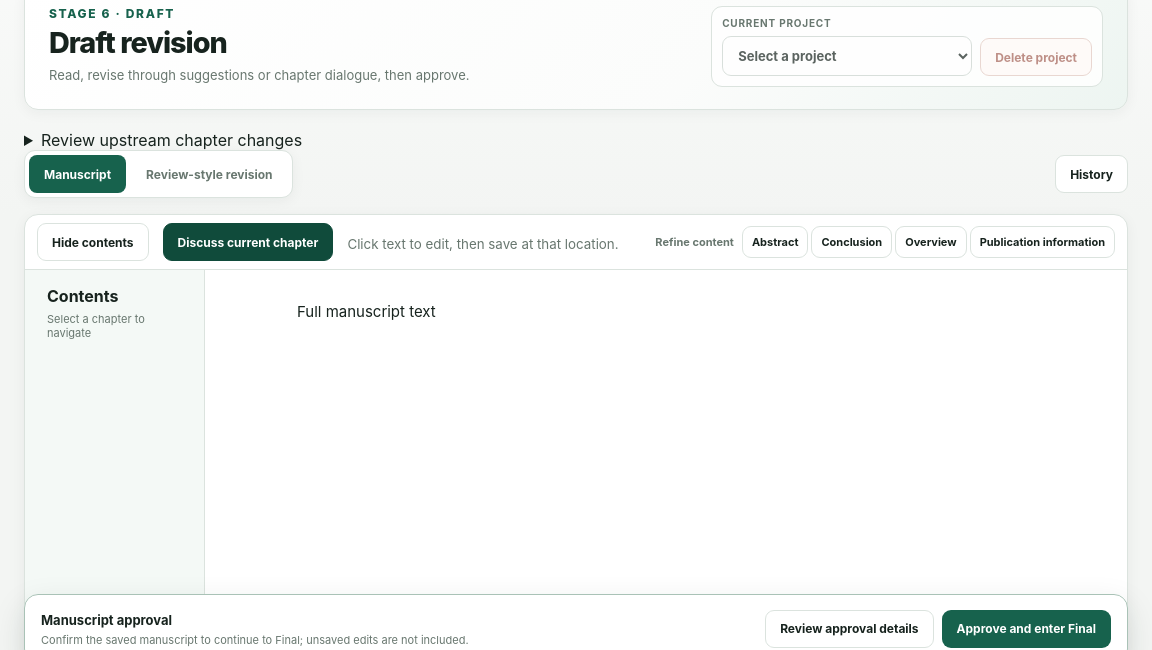
Test: starts with the manuscript and opens optional tools without a numbered wizard
Expected: the text "Full manuscript text" is shown, [297,302,436,321]
Expected: the element named "Complete manuscript" is shown, [655,226,1115,258]
Click the button "Review-style revision" at (209, 174), box [131,155,288,193]
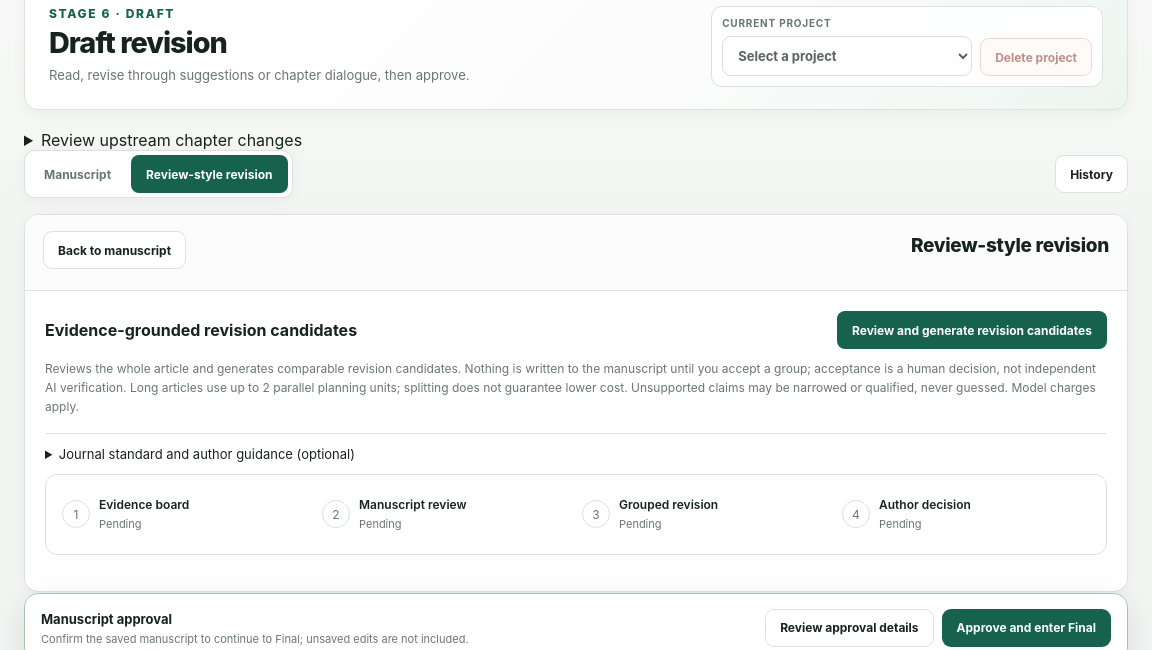
Now the button "Review and generate revision candidates" is enabled, box [837,311,1107,349]
Click the button "Manuscript" at (78, 174), box [29,155,126,193]
(page scrolled)
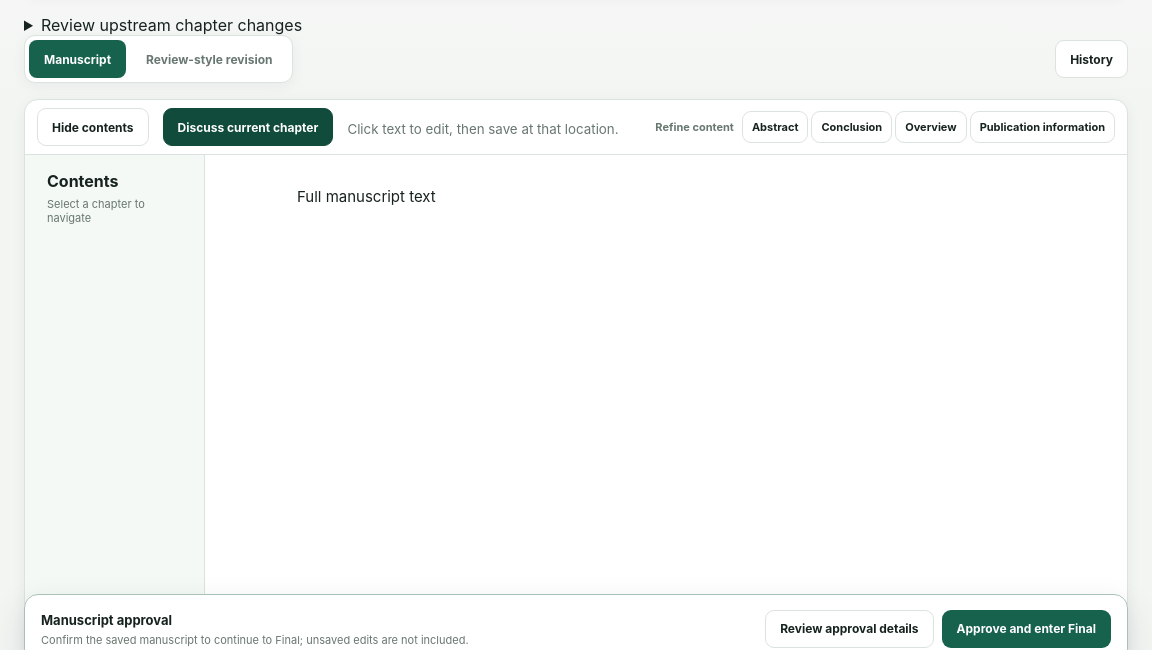
Click the button "Discuss current chapter" at (248, 127), box [163,108,333,146]
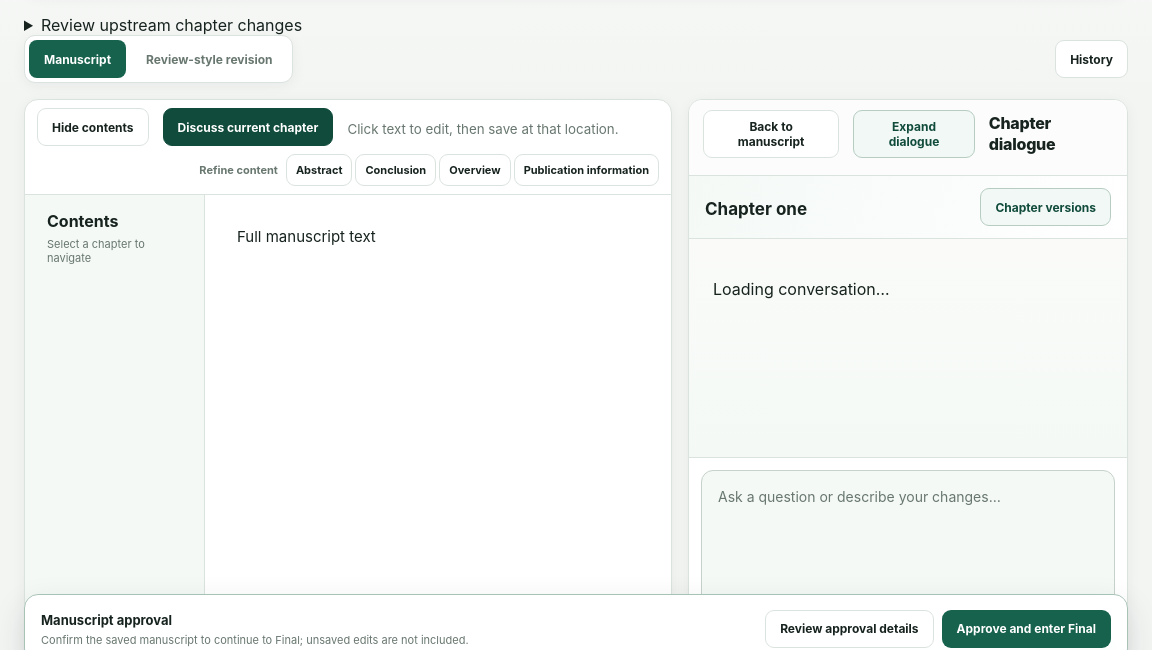
Now the text "Full manuscript text" is shown, box [237,227,376,246]
Now the button "Chapter versions" is shown, box [980,188,1111,226]
Click the button "Back to manuscript" at (771, 134), box [703,110,839,158]
(page scrolled)
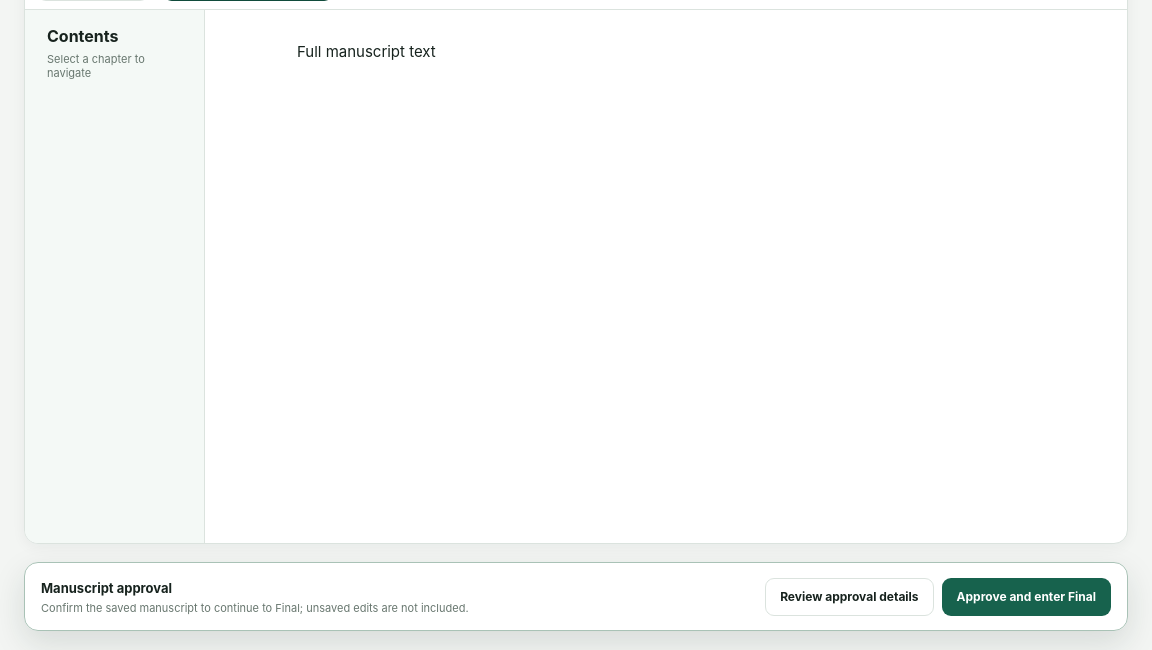
Expected: the button "Approve and enter Final" is enabled, [942,578,1111,616]
Now the button "Chapter versions" is gone
Click the button "Review approval details" at (849, 596), box [765,578,934,616]
(page scrolled)
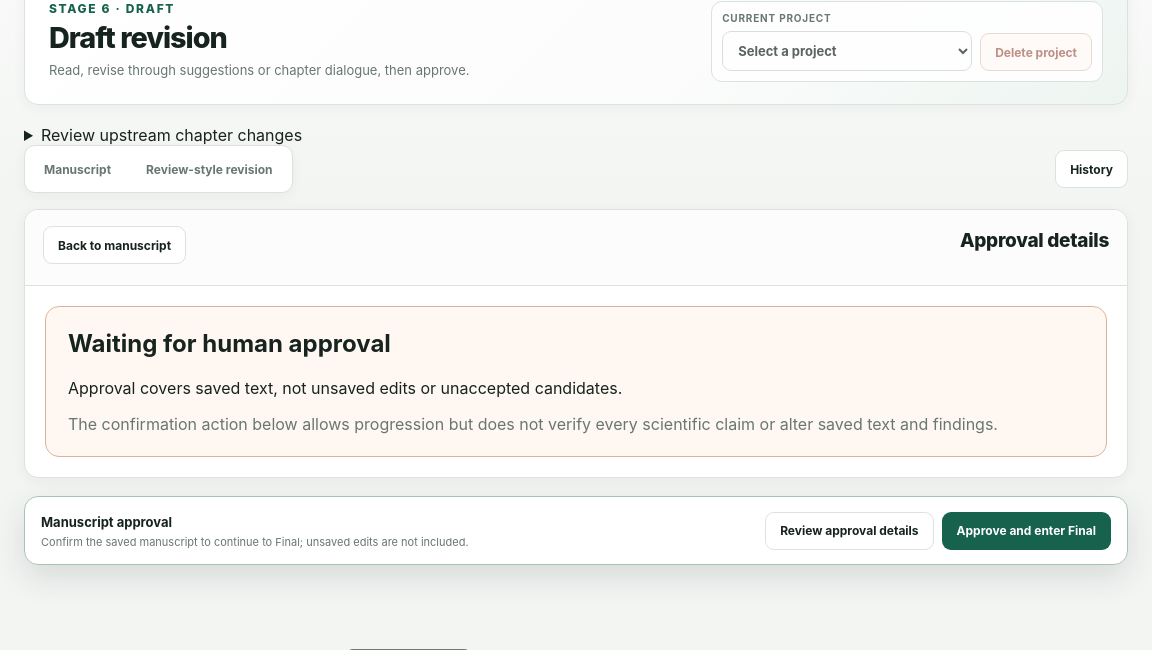
Now the heading "Waiting for human approval" is shown, box [68,329,391,358]
Click the button "History" at (1092, 169), box [1055,150,1128,188]
(page scrolled)
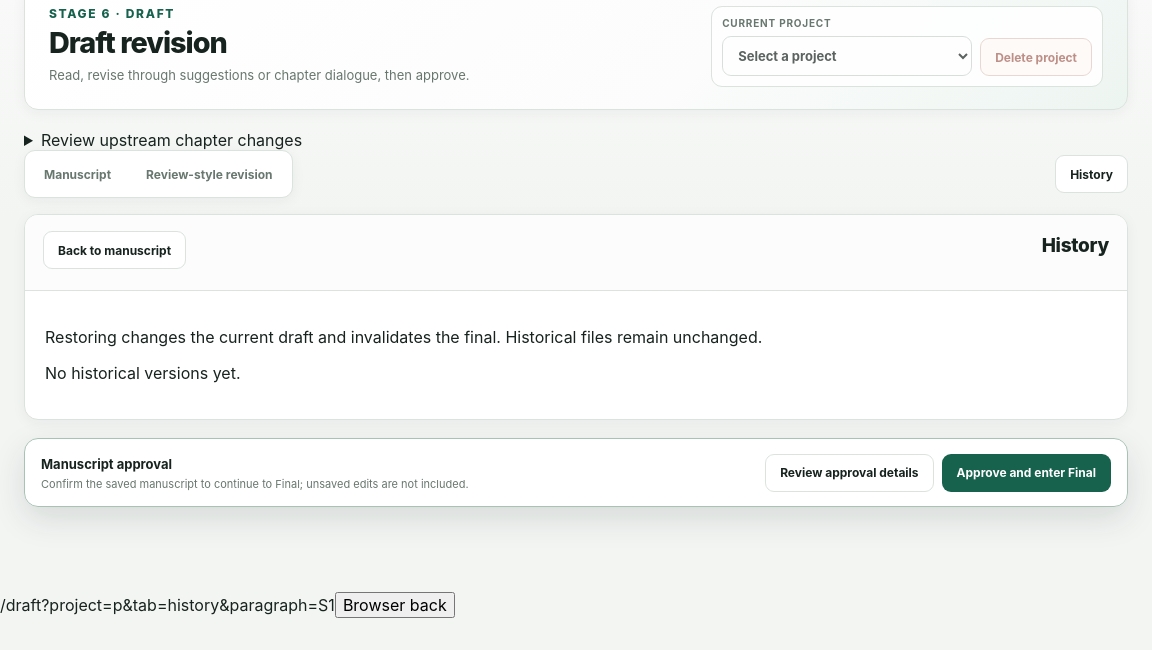
Now the text "No historical versions yet." is shown, box [45,363,240,383]
